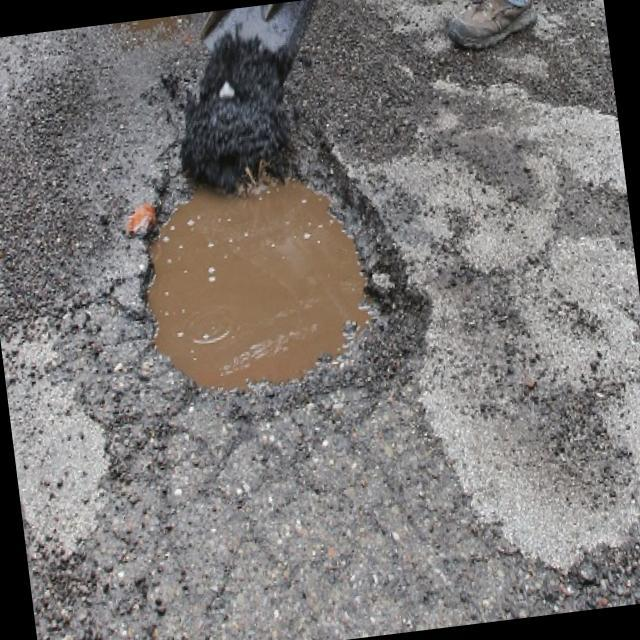Pothole: (75, 70, 482, 410)
